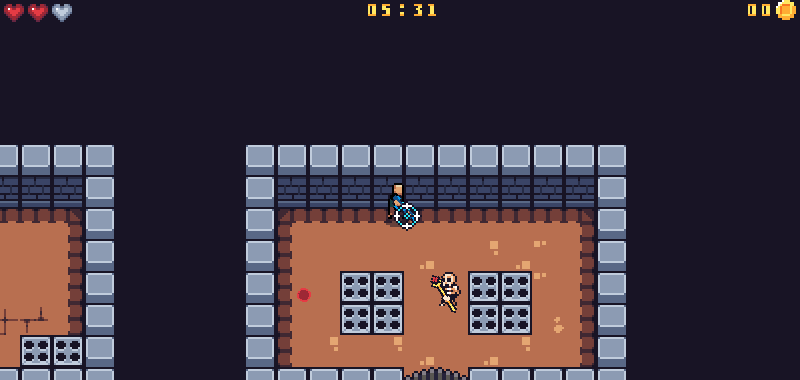enemy_skeleton: (428, 265, 464, 316)
enemy_skeleton_shoot: (296, 288, 314, 304)
trap_off: (467, 272, 534, 337), (339, 270, 405, 335), (20, 334, 84, 367)
